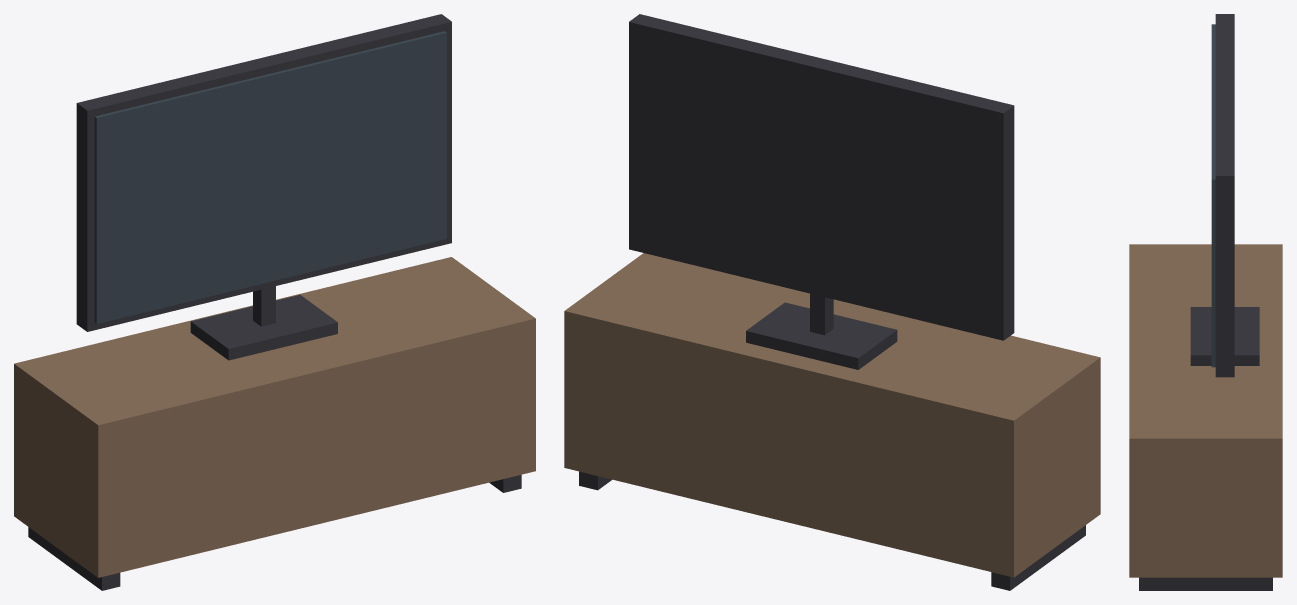
The model's file is tv_stand.glb.
3 renders of one model, left to right at view 1: azimuth 30°, elevation 25°; view 2: azimuth 150°, elevation 25°; view 3: azimuth 270°, elevation 25°, orthographic. The views are drawn at different scales.
Visible parts, largest first — view 1: tv_stand; view 2: tv_stand; view 3: tv_stand.
Boxes of the visible parts, x1,y1,x2,y2 form: tv_stand: (14, 14, 535, 590); tv_stand: (564, 14, 1100, 590); tv_stand: (1129, 14, 1282, 590).
Size of the model in its own units: 1.2 by 1.16 by 0.4.
